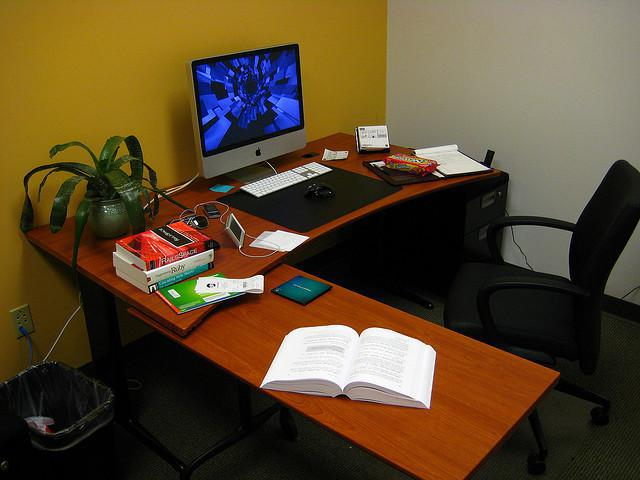phone: (303, 181, 332, 202)
tv: (189, 57, 316, 182)
